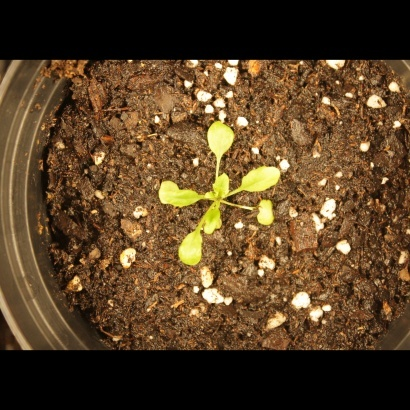leaf: (171, 225, 215, 272), (153, 171, 203, 210), (202, 115, 242, 158), (240, 161, 290, 192), (254, 194, 285, 229), (199, 205, 229, 235), (210, 171, 235, 207)
